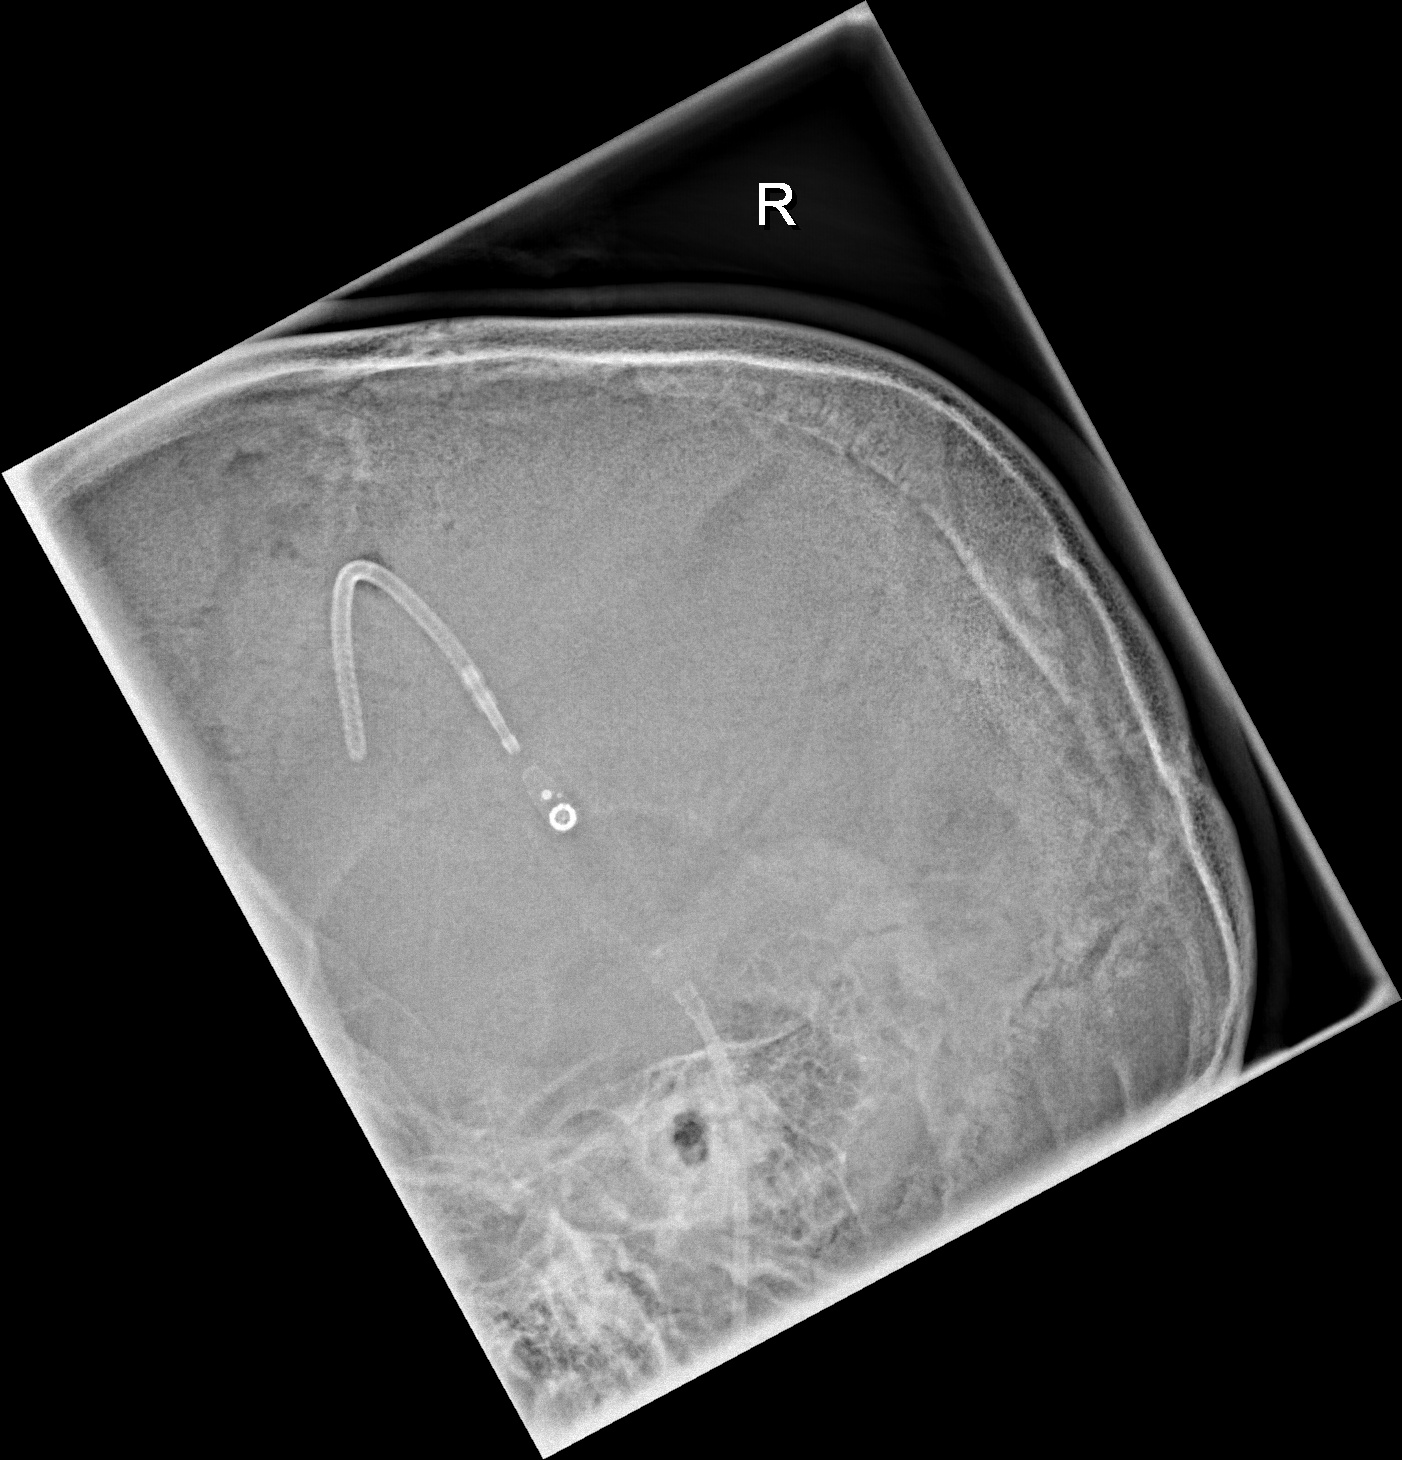Codman Hakim: (519, 766, 598, 864)
